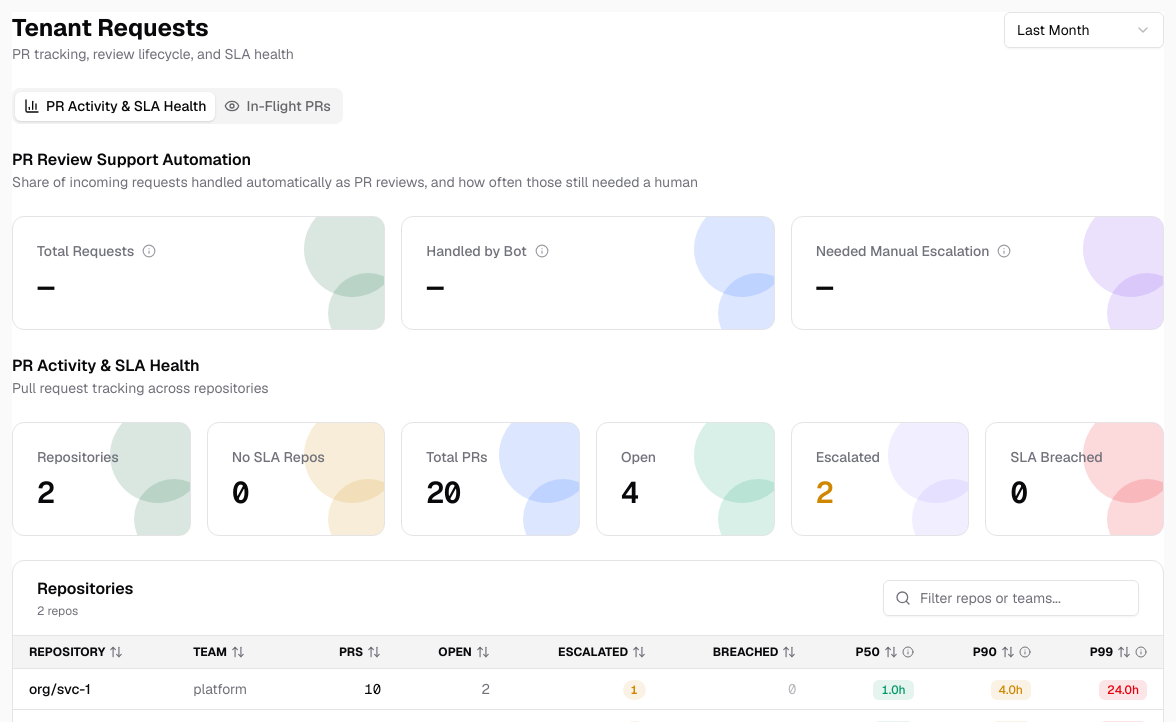
Scenario: TenantRequestsPage › Search › should filter repos by team name
Type "payments" into the field with placeholder "Filter repos or teams..." at (1011, 598), box [883,580,1139,616]
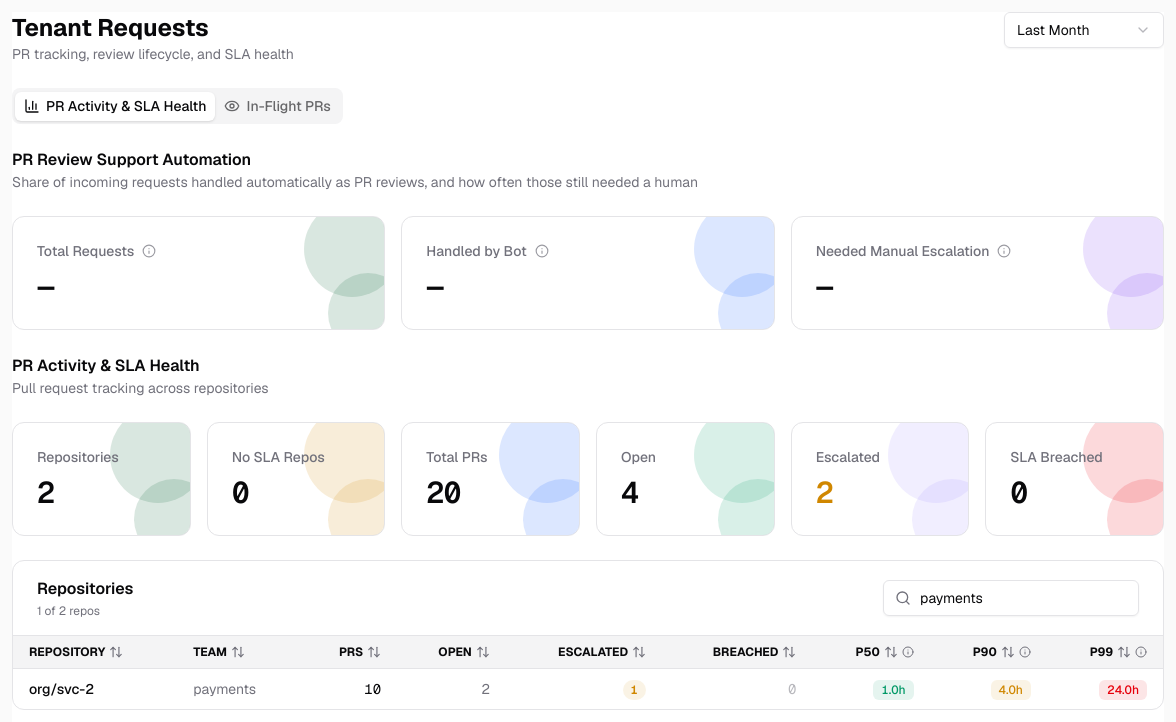
Check: the text "org/svc-2" is shown, box [29,679,94,699]
Check: the text "org/svc-1" is gone
